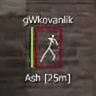hacks_3: (22, 15, 73, 84)
